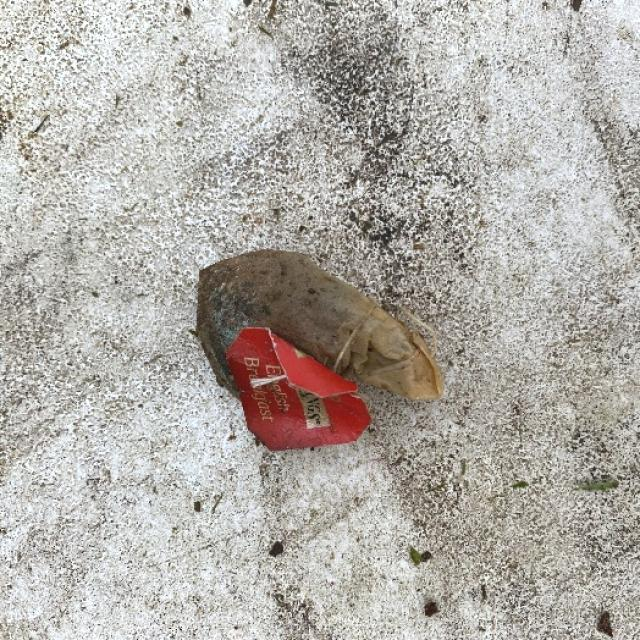wet: (193, 252, 433, 391)
